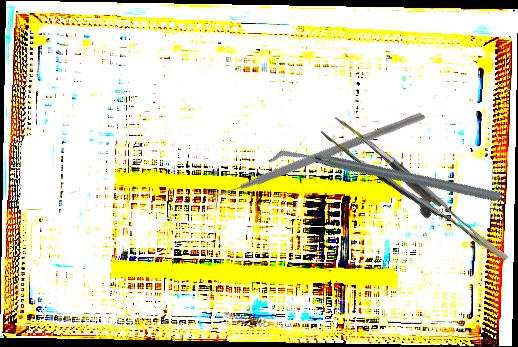Chopper: (197, 32, 427, 271), (266, 72, 503, 283)
Tissue Forceps: (320, 100, 509, 289)
